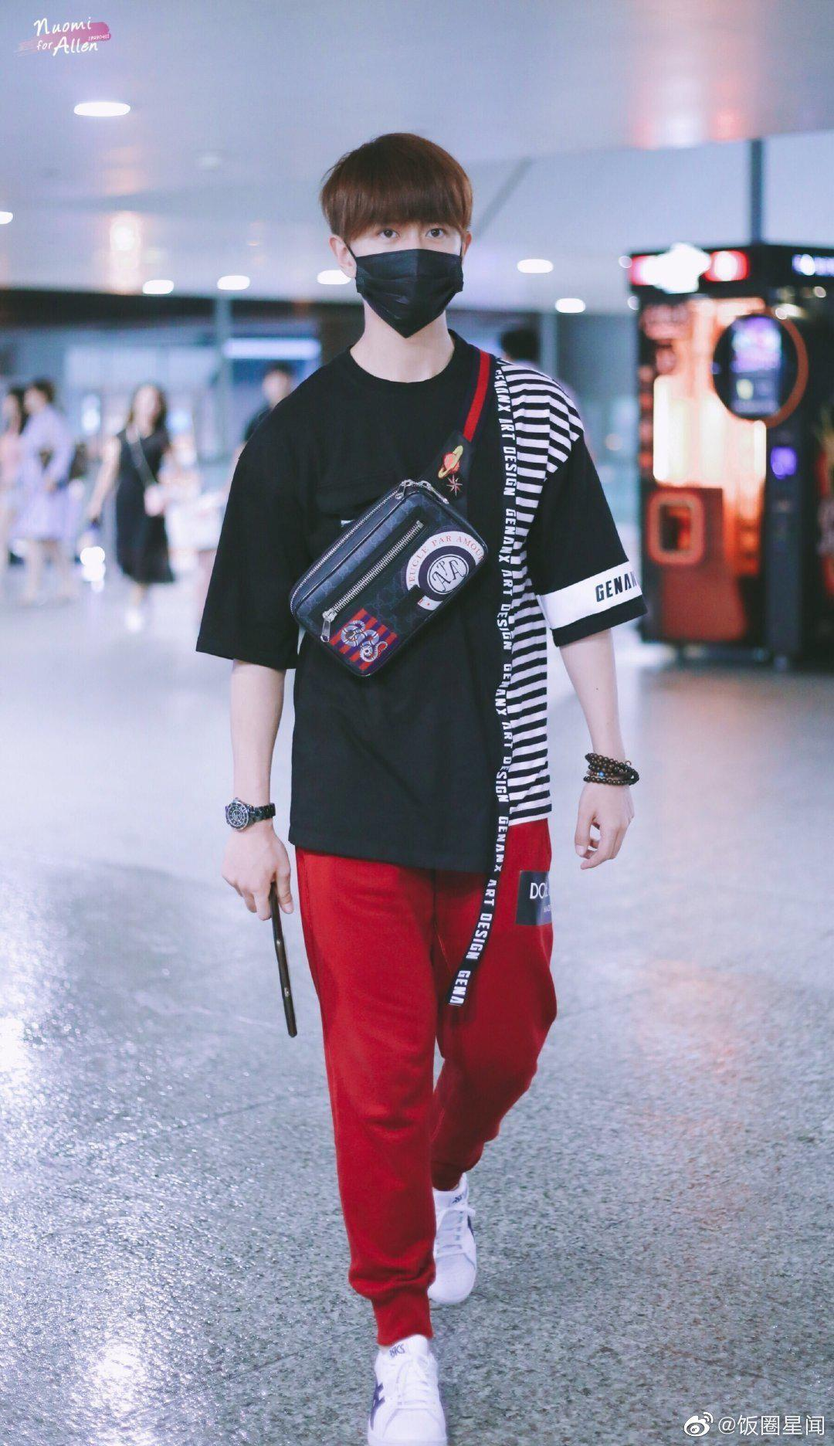NONE: (135, 391, 163, 423), (266, 370, 293, 400)
OK: (354, 207, 462, 337)
